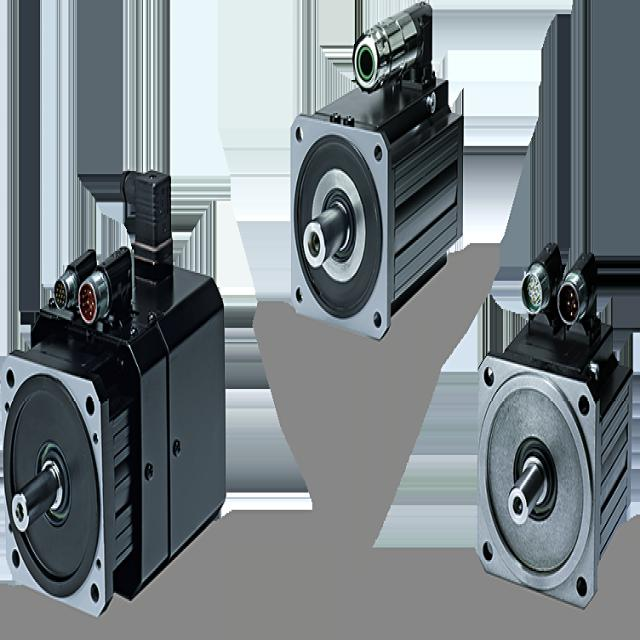servomotor: (0, 118, 244, 580), (274, 0, 483, 328), (484, 230, 639, 586)
